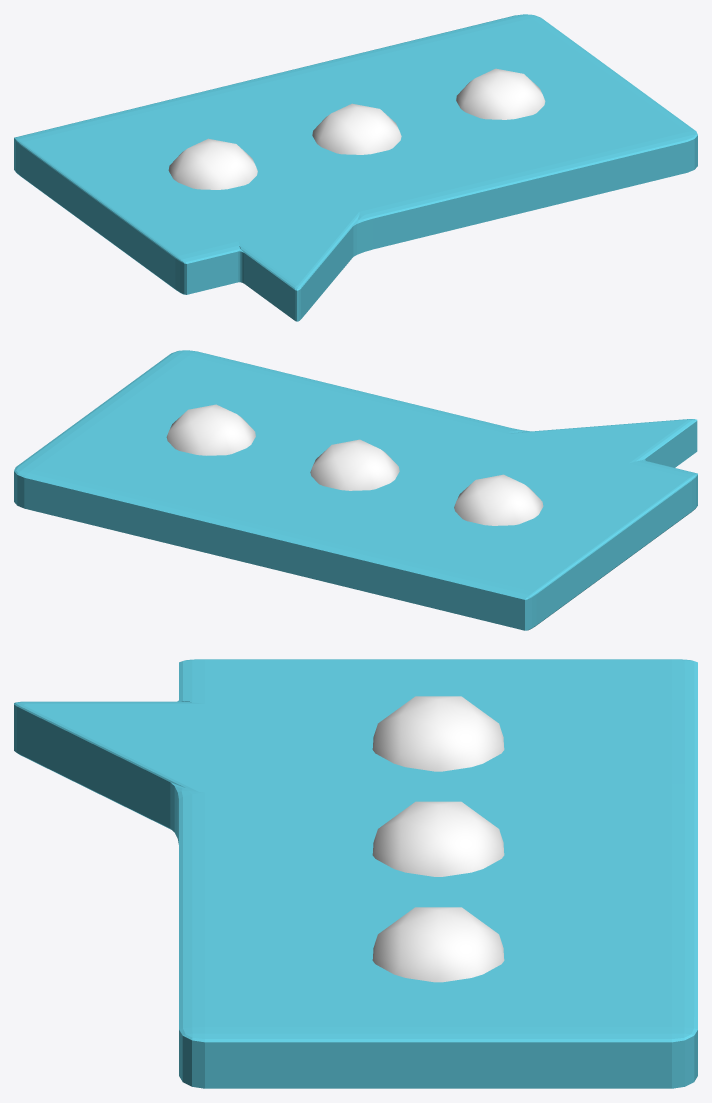
Rendered from chatBubble.glb.
3 renders of one model, top to bottom at view 1: azimuth 30°, elevation 25°; view 2: azimuth 150°, elevation 25°; view 3: azimuth 270°, elevation 25°, orthographic. The views are drawn at different scales.
Visible parts, largest first — view 1: chatBubble; view 2: chatBubble; view 3: chatBubble.
Part boxes in pixels (left/top/right/bottom): chatBubble: left=14, top=14, right=697, bottom=321; chatBubble: left=14, top=350, right=697, bottom=630; chatBubble: left=14, top=659, right=697, bottom=1088.
Size of the model in its own units: 3.54 by 0.5863 by 2.68.
